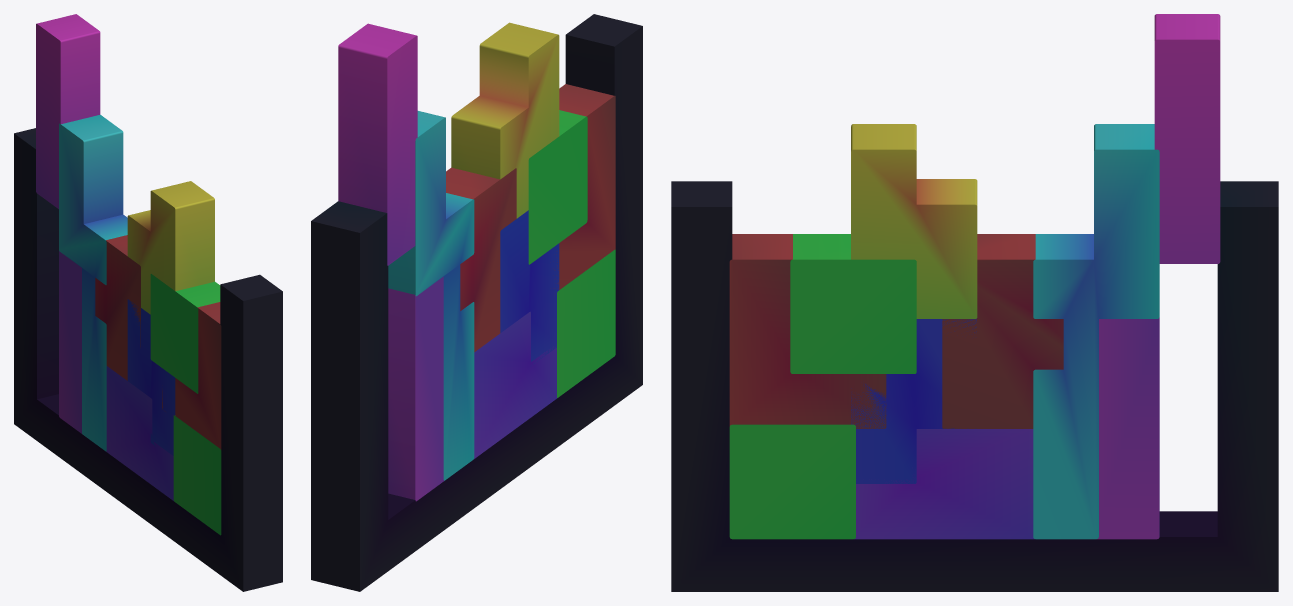
3 views of the same model, side by side, from view 1: azimuth 30°, elevation 25°; view 2: azimuth 150°, elevation 25°; view 3: azimuth 270°, elevation 25° (orthographic). The views are drawn at different scales.
Parts seen in each view (by area): view 1: frame, teal, purple, olive, violet, green_arm, green_foot, red_end, red_middle, blue; view 2: frame, purple, teal, olive, violet, red_end, green_arm, red_middle, green_foot, blue; view 3: frame, teal, purple, olive, red_end, red_middle, violet, green_arm, green_foot, blue.
Boxes of the visible parts, x1,y1,x2,y2 form: frame: [14, 128, 282, 591]; teal: [59, 114, 127, 451]; purple: [36, 14, 100, 433]; olive: [127, 181, 214, 314]; violet: [106, 366, 173, 500]; green_arm: [150, 274, 220, 393]; green_foot: [173, 415, 221, 535]; red_end: [162, 302, 221, 449]; red_middle: [95, 235, 140, 380]; blue: [127, 299, 175, 455]; frame: [311, 14, 642, 591]; purple: [338, 23, 444, 501]; teal: [388, 111, 474, 480]; olive: [451, 22, 559, 218]; violet: [474, 311, 557, 458]; red_end: [557, 84, 615, 289]; green_arm: [528, 110, 587, 264]; red_middle: [446, 167, 516, 351]; green_foot: [557, 249, 615, 397]; blue: [500, 210, 559, 365]; frame: [671, 181, 1278, 591]; teal: [1033, 124, 1159, 539]; purple: [1097, 14, 1220, 539]; olive: [851, 124, 977, 318]; red_end: [729, 234, 886, 428]; red_middle: [942, 234, 1063, 428]; violet: [854, 429, 1035, 539]; green_arm: [790, 234, 916, 373]; green_foot: [729, 424, 855, 539]; blue: [851, 318, 976, 483].
Bounding box in the file's own units: 0.05 × 0.502 × 0.5.
